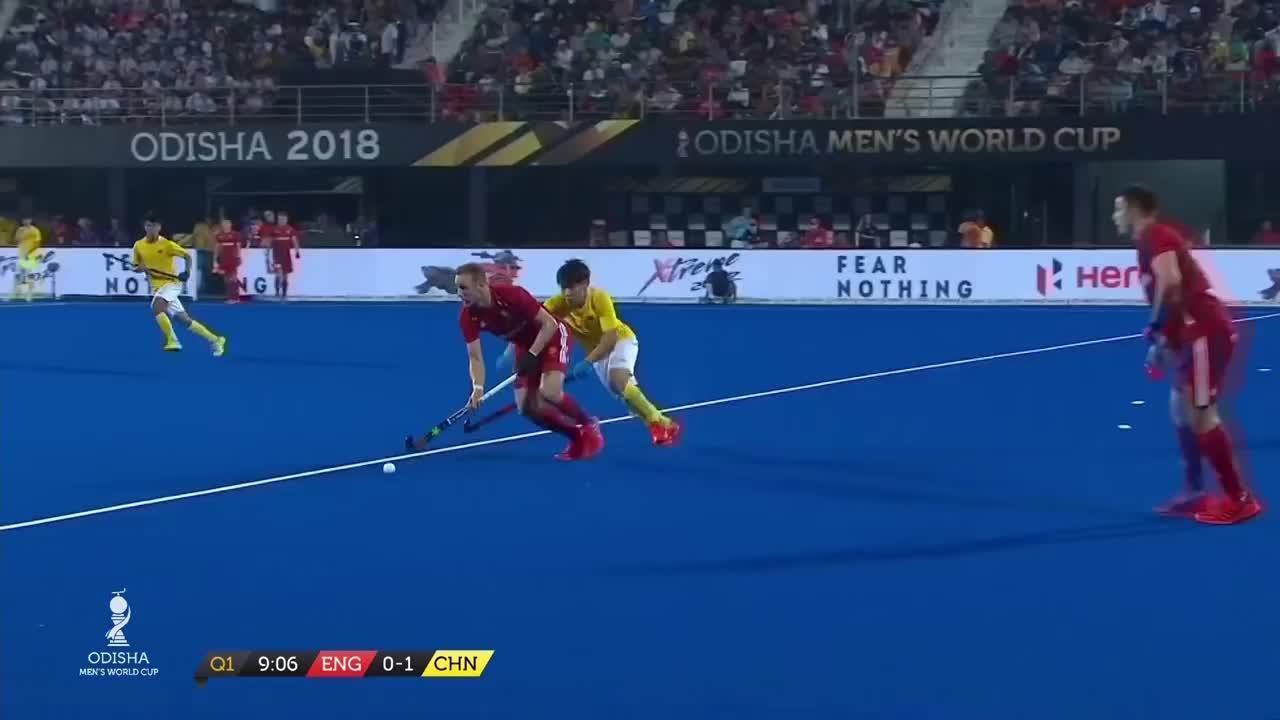ball: (378, 454, 400, 476)
